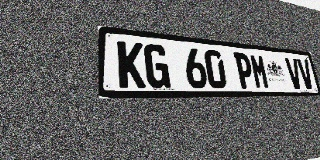0: (204, 49, 227, 89)
6: (184, 47, 208, 88)
G: (144, 43, 171, 88)
K: (117, 41, 146, 88)
M: (249, 54, 270, 89)
P: (233, 52, 255, 89)
V: (285, 57, 303, 89), (297, 59, 315, 89)
